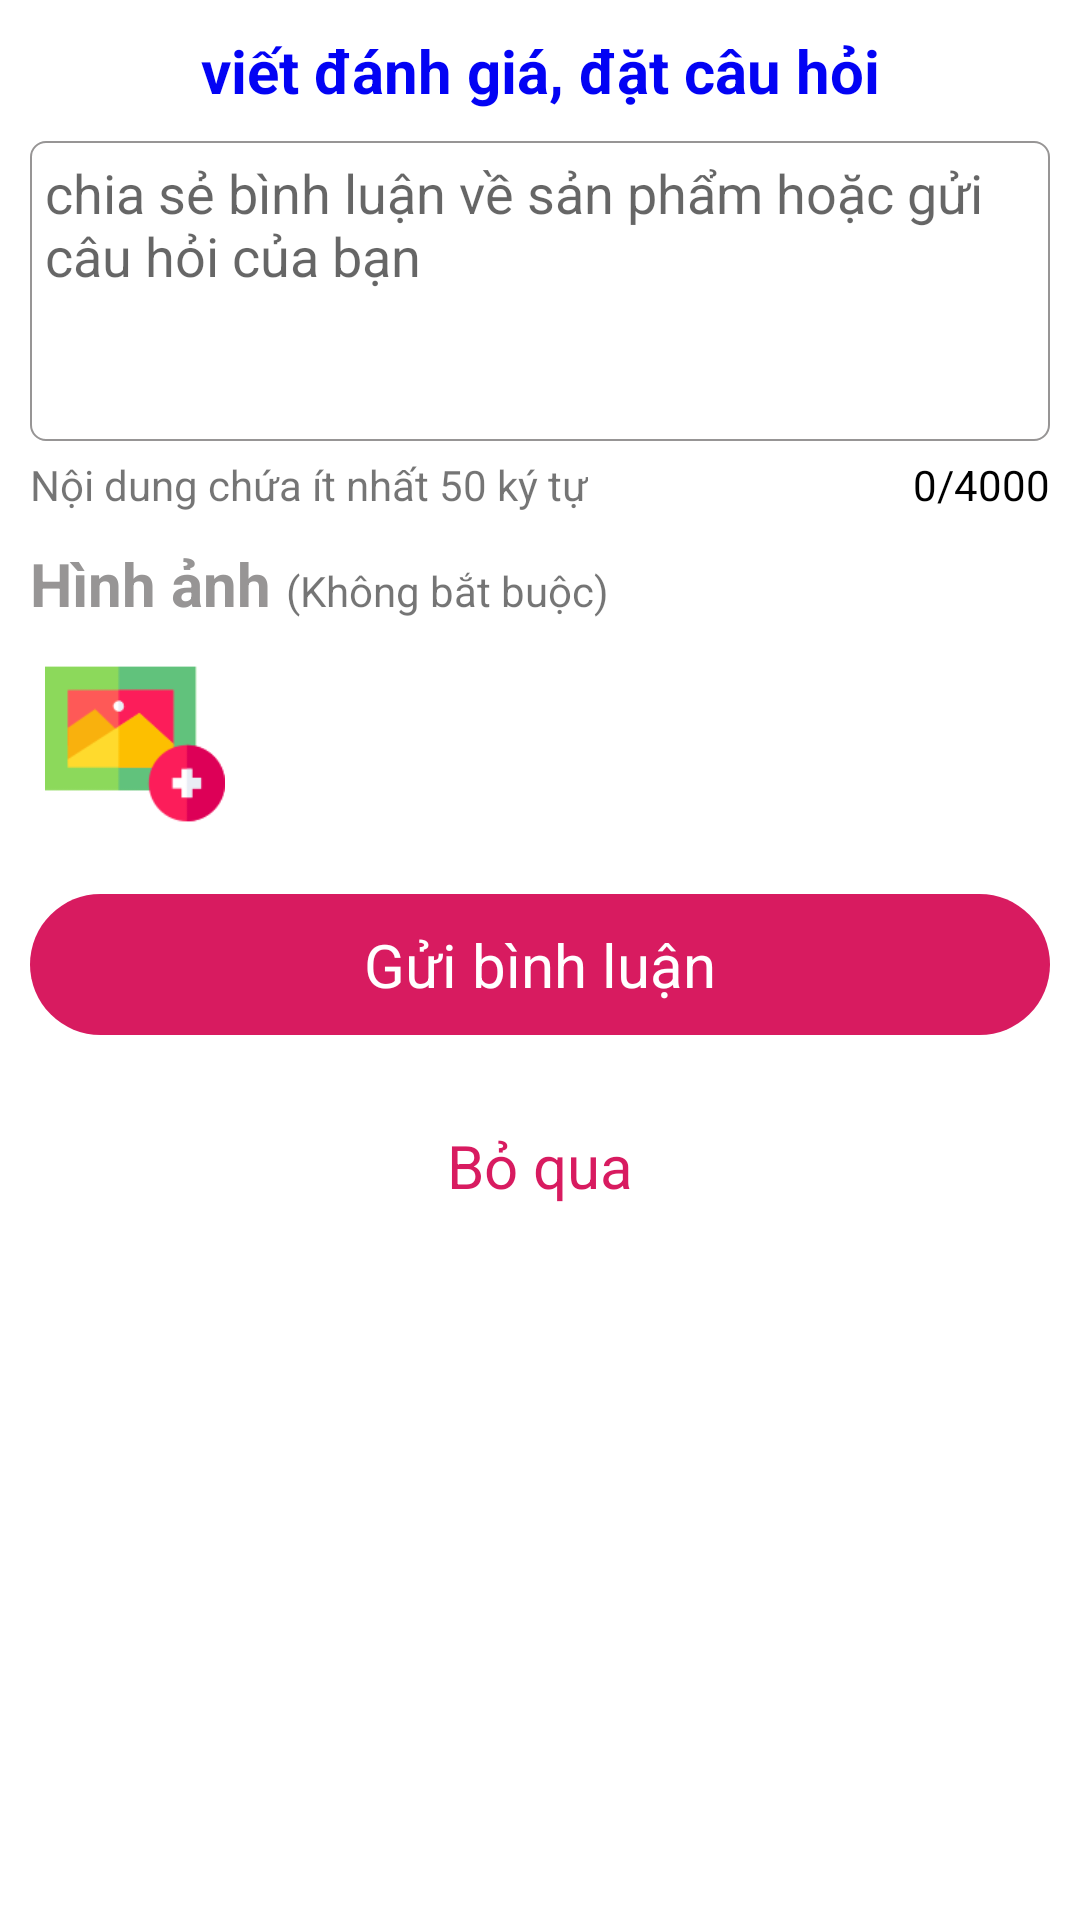

Icon bounding boxes for this 1080x1920 phone screenshot, format (x1, y1, x2, y2):
add: (45, 666, 225, 822)
